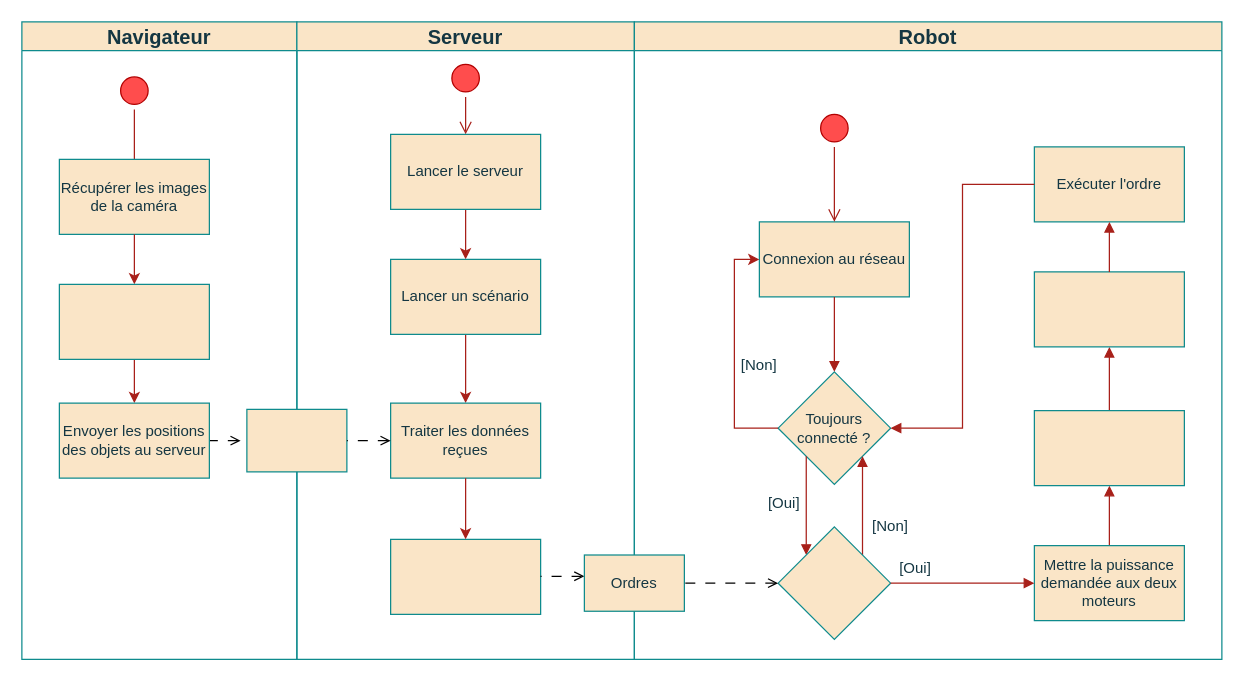
Some shapes in this 1244 by 681 pixel diagram are drawn without their labels. The shapes that lost their labels are listed below. From the top down, each one's centre as x and y in pixels, then its label:
(133,321): Dessiner les images de la caméra dans un canvas
(1108,309): Exécuter la requête pendant la durée indiquée
(296,440): Données
(1108,447): Mettre le sens demandé aux deux moteurs
(465,576): Envoyer les ordres du scénario au robot
(834,582): Ordre reçu ?
